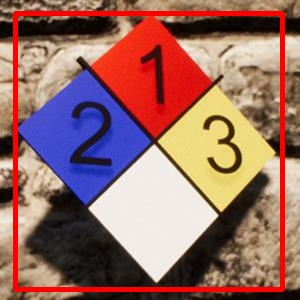nfpa: (15, 13, 282, 289)
